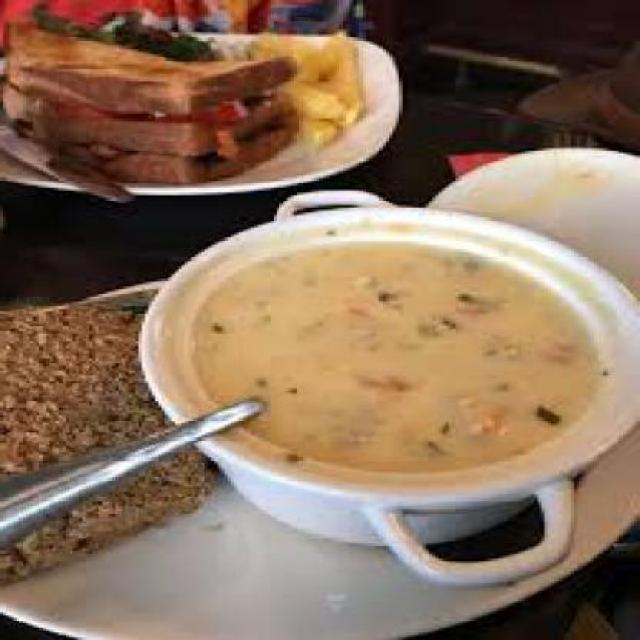clam chowder: (158, 166, 634, 576)
club sandwich: (3, 37, 277, 188)
french fries: (254, 22, 389, 146)
